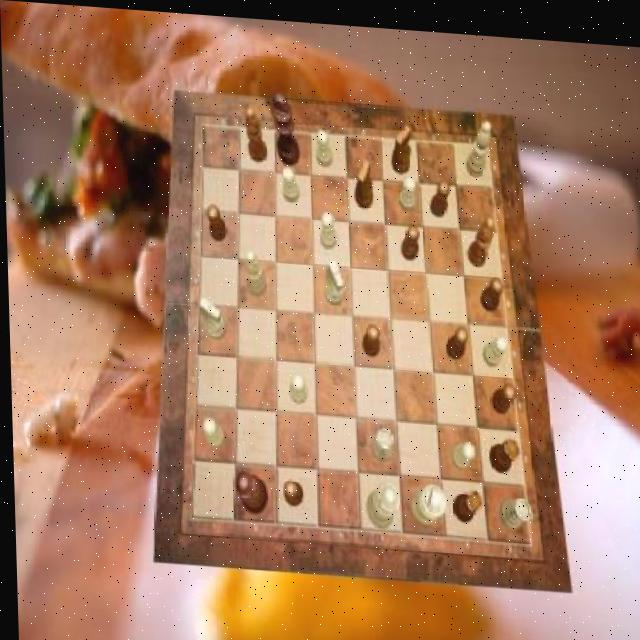bishop: (466, 208, 495, 262), (245, 103, 266, 159)
black-bishop: (270, 88, 299, 162)
black-king: (390, 118, 411, 168), (352, 154, 372, 203)
black-knight: (477, 269, 502, 304), (442, 319, 466, 355), (488, 375, 514, 408), (427, 172, 449, 211), (204, 201, 225, 238), (399, 218, 419, 254), (360, 318, 378, 353), (280, 476, 300, 503)
black-pawn: (230, 464, 264, 511)
black-queen: (486, 430, 518, 466), (449, 483, 479, 518)
black-rook: (464, 112, 493, 171), (242, 246, 265, 294)
white-bishop: (407, 477, 444, 521)
white-king: (197, 294, 225, 337), (322, 254, 344, 300)
white-knight: (479, 327, 506, 361), (201, 414, 224, 446), (447, 435, 472, 464), (318, 208, 336, 245), (314, 124, 331, 163), (280, 162, 298, 198), (397, 171, 415, 206), (286, 368, 304, 400)
white-pawn: (361, 474, 398, 524)
white-queen: (495, 488, 527, 524), (366, 421, 390, 457)
